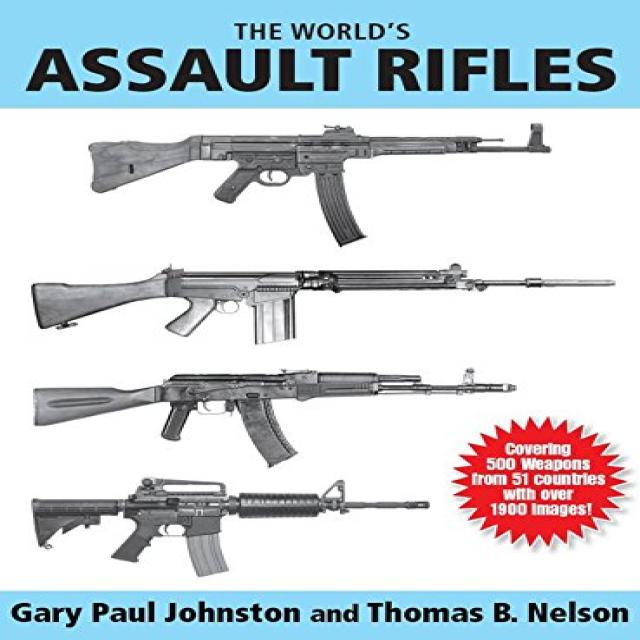Rifle: (31, 266, 617, 348), (88, 132, 484, 248), (29, 479, 430, 580), (35, 371, 423, 470)
